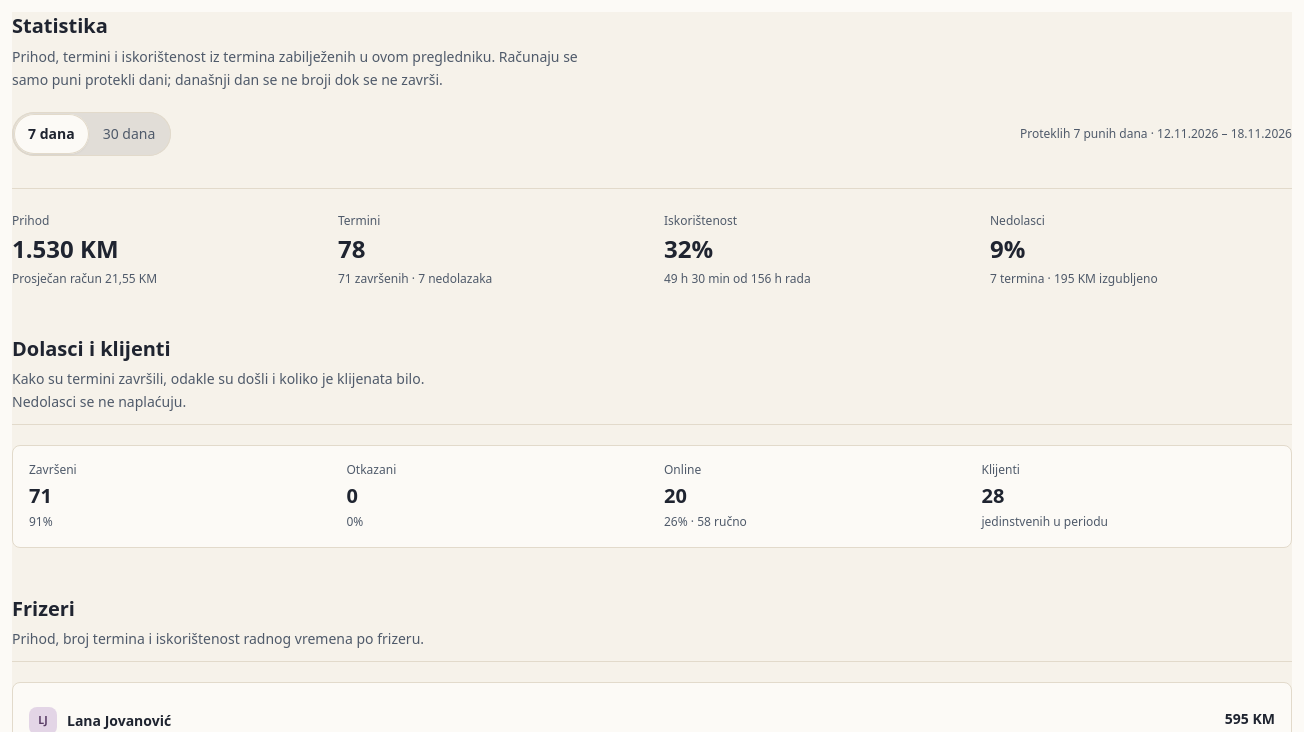
Test: StatisticsPage › renders the report from stored appointments and switches the period
The width and height of the screenshot is (1304, 732).
Check: the heading "Statistika" is shown, box [12,12,108,39]
Check: the text "Prihod" is shown, box [12,212,49,228]
Click the button "30 dana": coordinates (129, 134) [89,114,169,154]
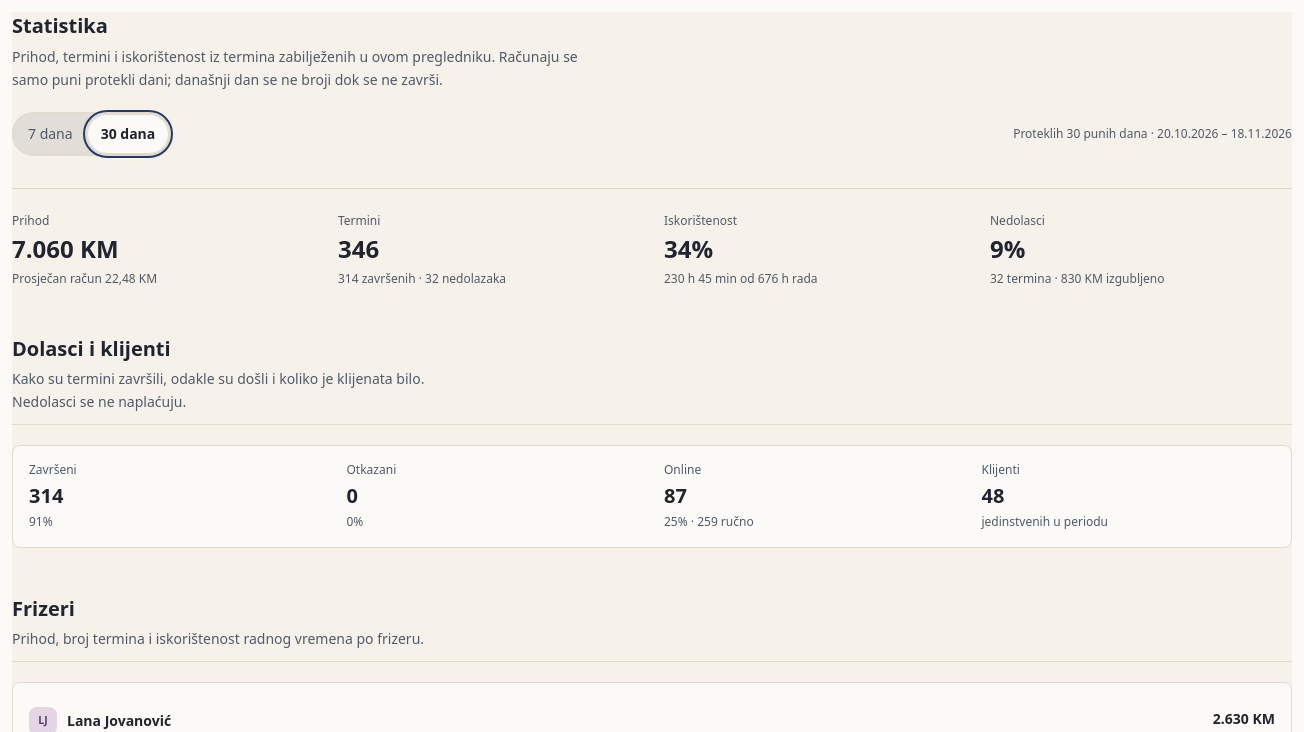
Check: the text "Proteklih 30 punih dana · 20.10.2026 – 18.11.2026" is shown, box [1013,126,1292,142]
